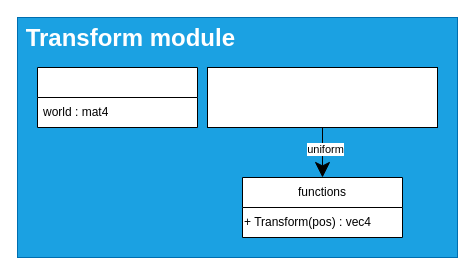
This 475x275 diagram has some shape labels left out. Here are the shapes that lost their labels. From the top down, the box of each, then its label:
(36, 66, 198, 128): TransformUniforms
(206, 66, 438, 128): transformData : TransformUniforms
